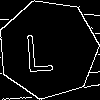L: (23, 24, 54, 72)
